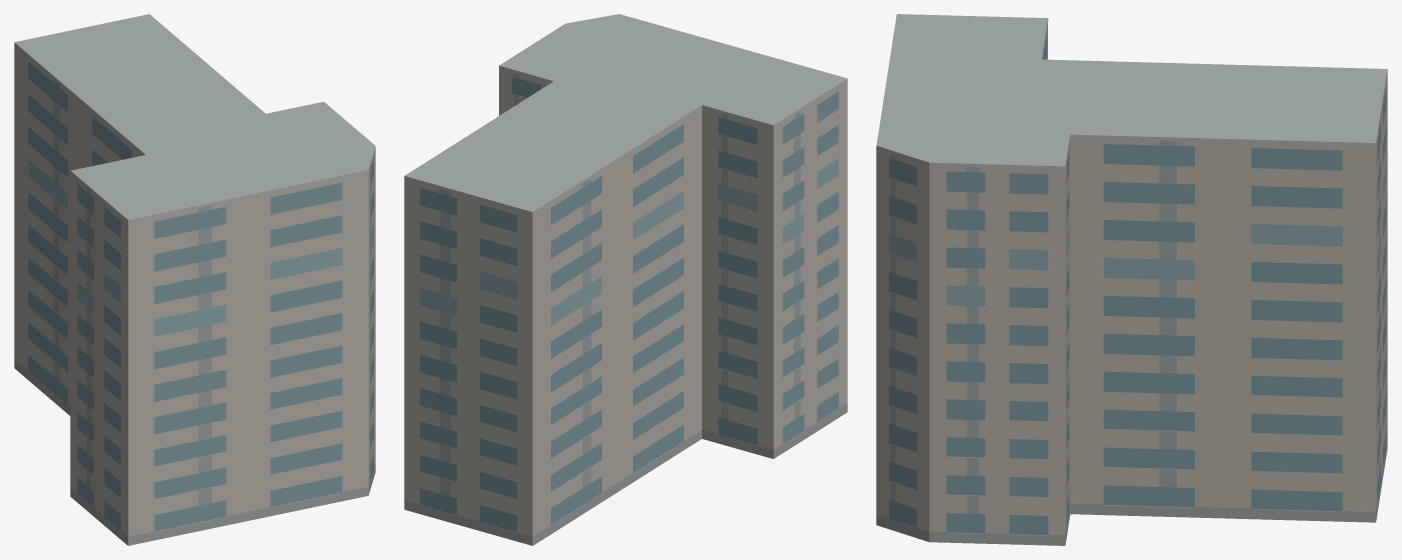
The model's file is residential-a2c08872-a590-47fb-ac23-c3dd201e27fc.glb.
The picture shows the model from 3 angles, left to right: view 1: azimuth 30°, elevation 25°; view 2: azimuth 150°, elevation 25°; view 3: azimuth 270°, elevation 25°; orthographic projection. The views are drawn at different scales.
Visible parts, largest first — view 1: residential-a2c08872-a590-47fb-ac23-c3dd201e27fc.tmp; view 2: residential-a2c08872-a590-47fb-ac23-c3dd201e27fc.tmp; view 3: residential-a2c08872-a590-47fb-ac23-c3dd201e27fc.tmp.
Part boxes in pixels (x1,y1,x2,y2): residential-a2c08872-a590-47fb-ac23-c3dd201e27fc.tmp: [14, 14, 375, 545]; residential-a2c08872-a590-47fb-ac23-c3dd201e27fc.tmp: [404, 14, 847, 545]; residential-a2c08872-a590-47fb-ac23-c3dd201e27fc.tmp: [876, 14, 1387, 545].
Size of the model in its own units: 24.11 by 28 by 34.18.
